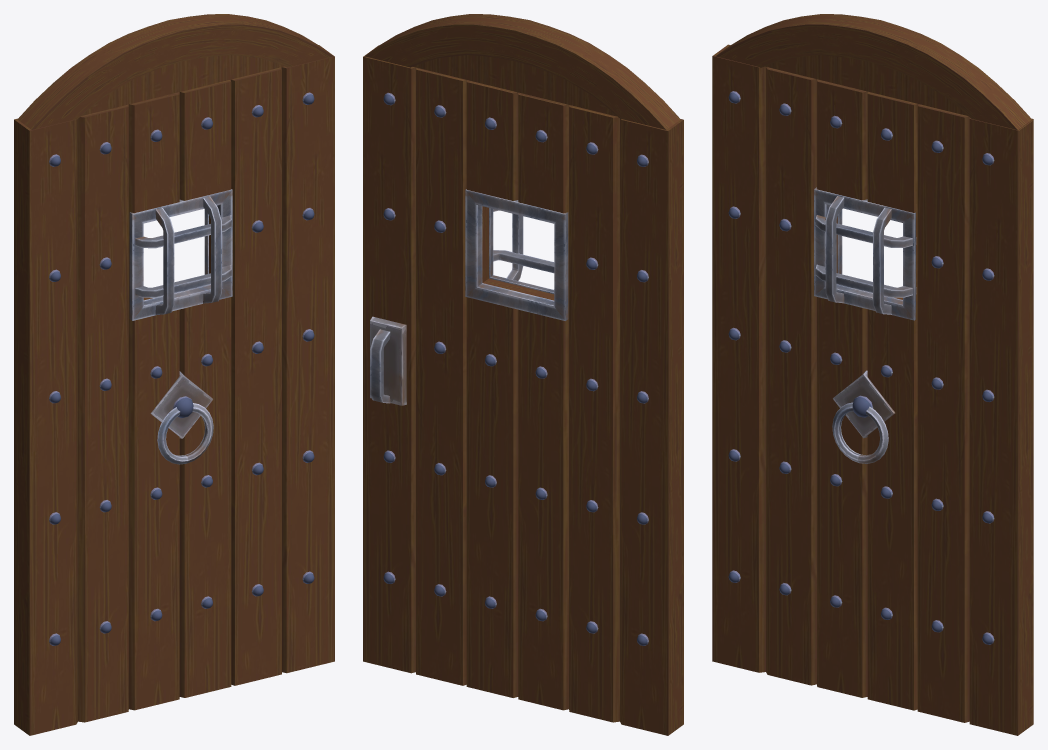
File: Door_2_Round.gltf
3 views of the same model, side by side, from view 1: azimuth 30°, elevation 25°; view 2: azimuth 150°, elevation 25°; view 3: azimuth 330°, elevation 25° (orthographic).
Parts seen in each view (by area): view 1: Door_2_Round; view 2: Door_2_Round; view 3: Door_2_Round.
Part boxes in pixels (x1,y1,x2,y2): Door_2_Round: [14, 14, 334, 735]; Door_2_Round: [363, 14, 683, 735]; Door_2_Round: [712, 14, 1033, 735].
Size of the model in its own units: 1.12 by 2.33 by 0.2609.
Materials: 2 (2 with a texture image).
